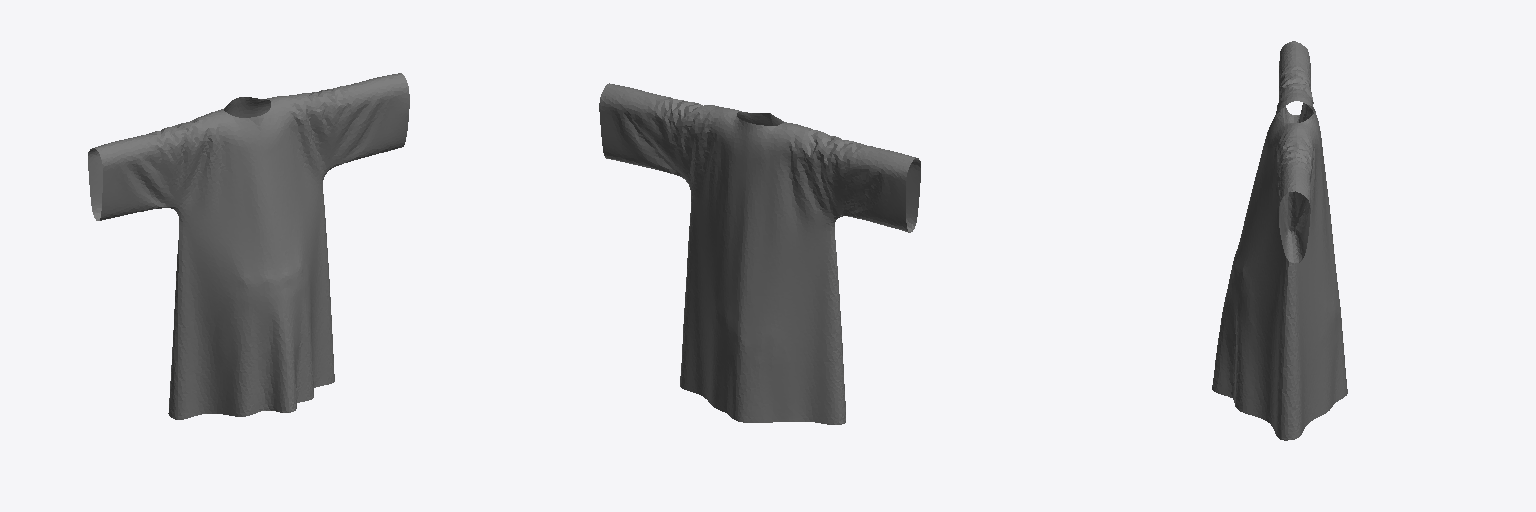
The model's file is cloth4_1.obj.
The picture shows the model from 3 angles: view 1: azimuth 30°, elevation 25°; view 2: azimuth 150°, elevation 25°; view 3: azimuth 270°, elevation 25°; orthographic projection.
Parts seen in each view (by area): view 1: cloth4_1:Mesh1; view 2: cloth4_1:Mesh1; view 3: cloth4_1:Mesh1.
Part boxes in pixels (left/top/right/bottom): cloth4_1:Mesh1: left=88, top=73, right=409, bottom=419; cloth4_1:Mesh1: left=599, top=83, right=920, bottom=424; cloth4_1:Mesh1: left=1212, top=41, right=1347, bottom=440.
Size of the model in its own units: 5.03 by 4.55 by 1.92.